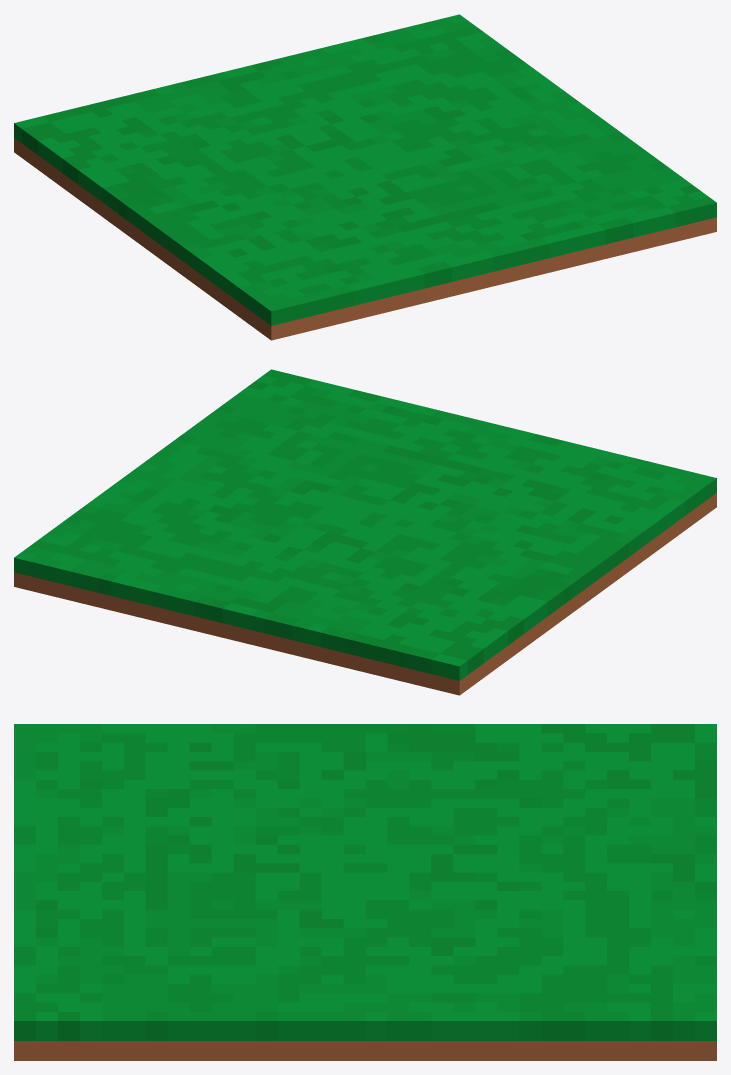
File: forest-3.gltf
The picture shows the model from 3 angles, top to bottom: view 1: azimuth 30°, elevation 25°; view 2: azimuth 150°, elevation 25°; view 3: azimuth 270°, elevation 25°; orthographic projection. The views are drawn at different scales.
Parts seen in each view (by area): view 1: forest-3; view 2: forest-3; view 3: forest-3.
Part boxes in pixels (left/top/right/bottom): forest-3: left=14, top=14, right=716, bottom=340; forest-3: left=14, top=369, right=716, bottom=695; forest-3: left=14, top=724, right=716, bottom=1060.
Bounding box in the file's own units: 3.2 × 0.2 × 3.2.
1 material, 1 textured.
